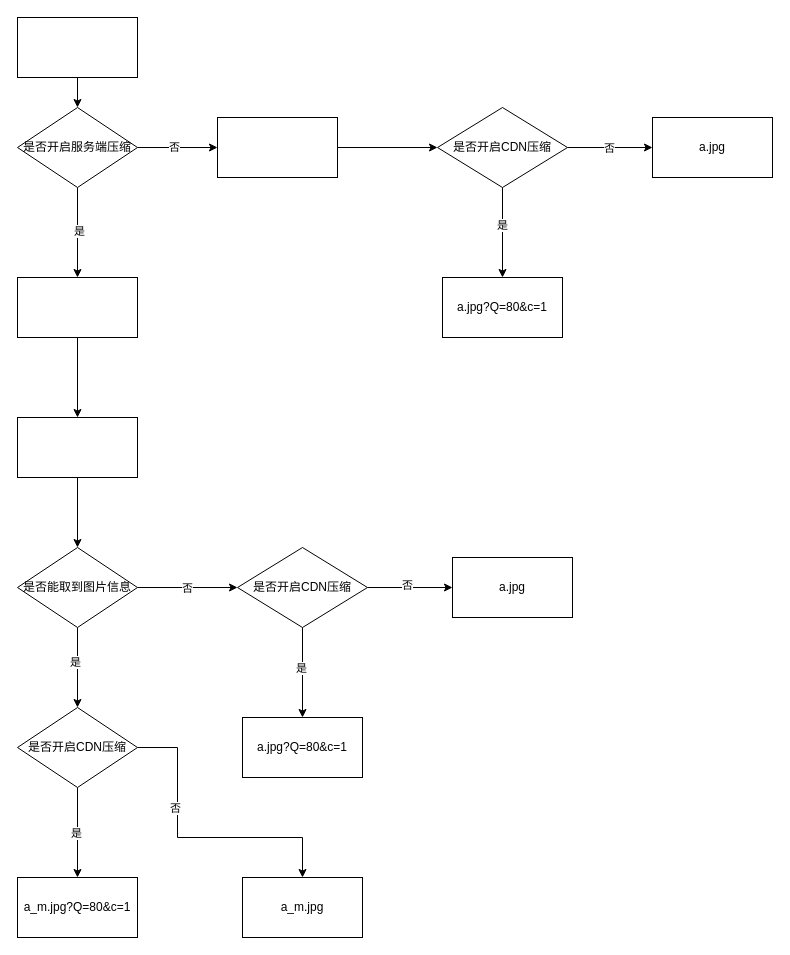
The diagram is 790 pixels wide and 955 high, and some of its shapes have lost their labels. Here are the shapes that lost their labels. From the top down, the centre of each, then its label:
At point (77, 47): "src = 'a.jpg'".
At point (277, 147): "compressed = 'a.jpg'".
At point (77, 307): "compressed = 'a_m.jpg'".
At point (77, 447): "wx.getImageInfo()".
